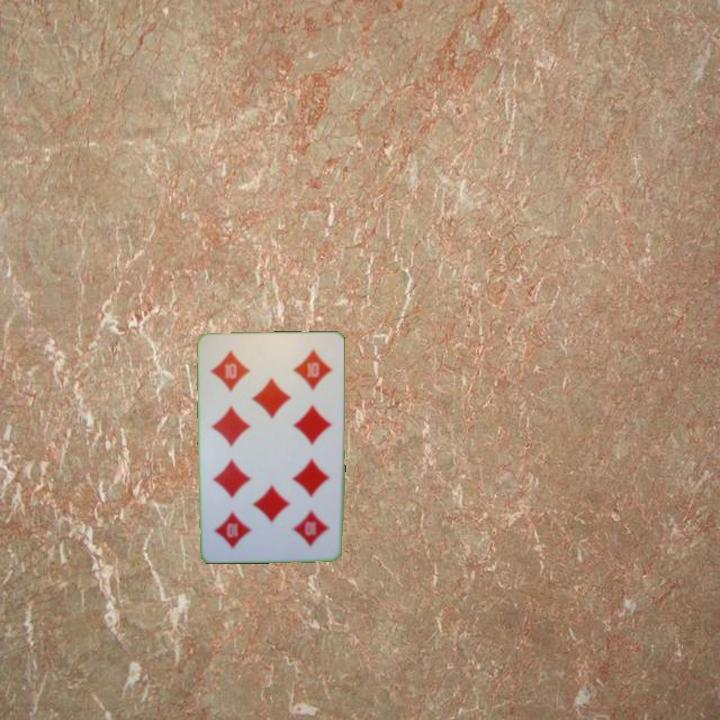d_10.png: (268, 494, 336, 553), (206, 341, 274, 400)
